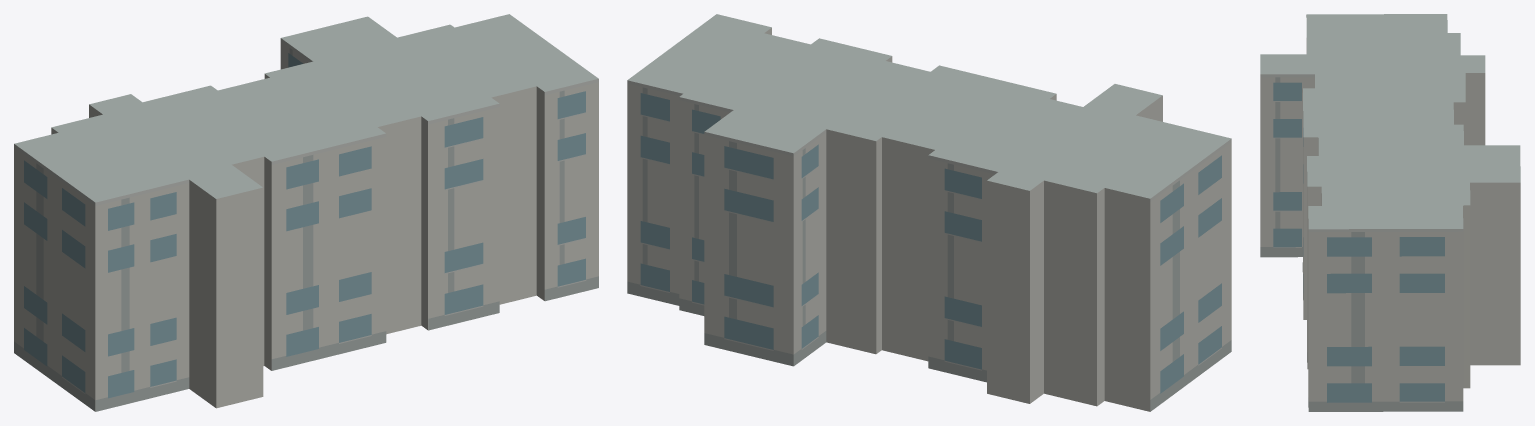
Rendered from residential-b19b1e4a-9719-4e33-a44b-b59fabedc703.glb.
The picture shows the model from 3 angles, left to right: view 1: azimuth 30°, elevation 25°; view 2: azimuth 150°, elevation 25°; view 3: azimuth 270°, elevation 25°; orthographic projection. The views are drawn at different scales.
Visible parts, largest first — view 1: residential-b19b1e4a-9719-4e33-a44b-b59fabedc703.tmp; view 2: residential-b19b1e4a-9719-4e33-a44b-b59fabedc703.tmp; view 3: residential-b19b1e4a-9719-4e33-a44b-b59fabedc703.tmp.
Part boxes in pixels (x1,y1,x2,y2): residential-b19b1e4a-9719-4e33-a44b-b59fabedc703.tmp: (14, 14, 598, 411); residential-b19b1e4a-9719-4e33-a44b-b59fabedc703.tmp: (627, 14, 1231, 411); residential-b19b1e4a-9719-4e33-a44b-b59fabedc703.tmp: (1260, 14, 1520, 411).
Bounding box in the file's own units: 38.54 × 15.25 × 19.71.
